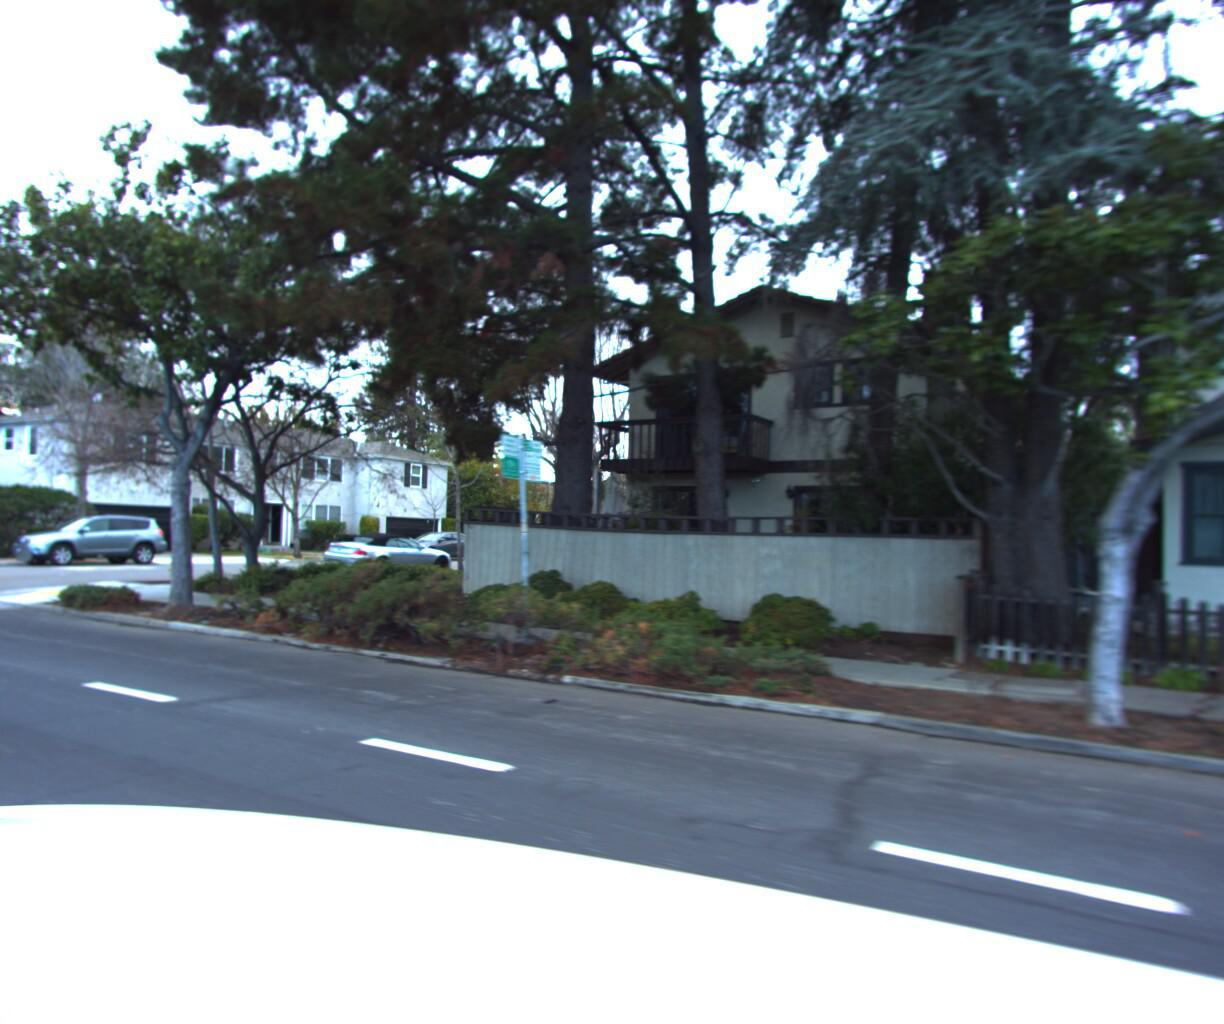car: (0, 510, 174, 567), (310, 526, 456, 576), (386, 526, 484, 562)
